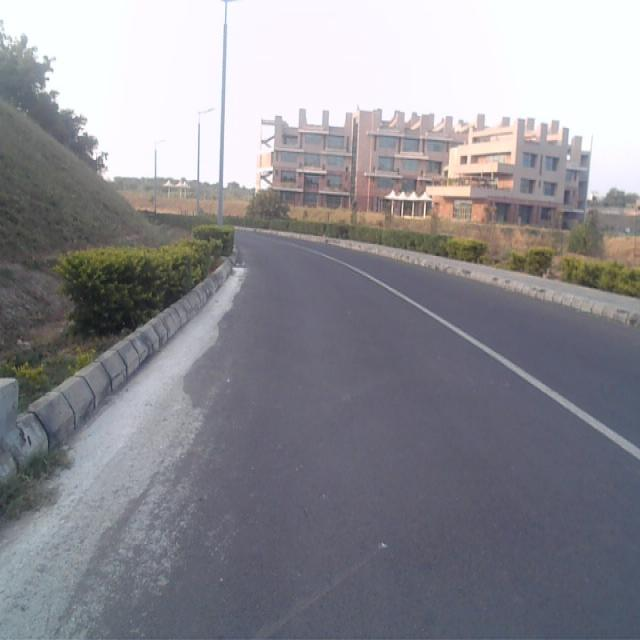lane: (0, 235, 640, 640)
